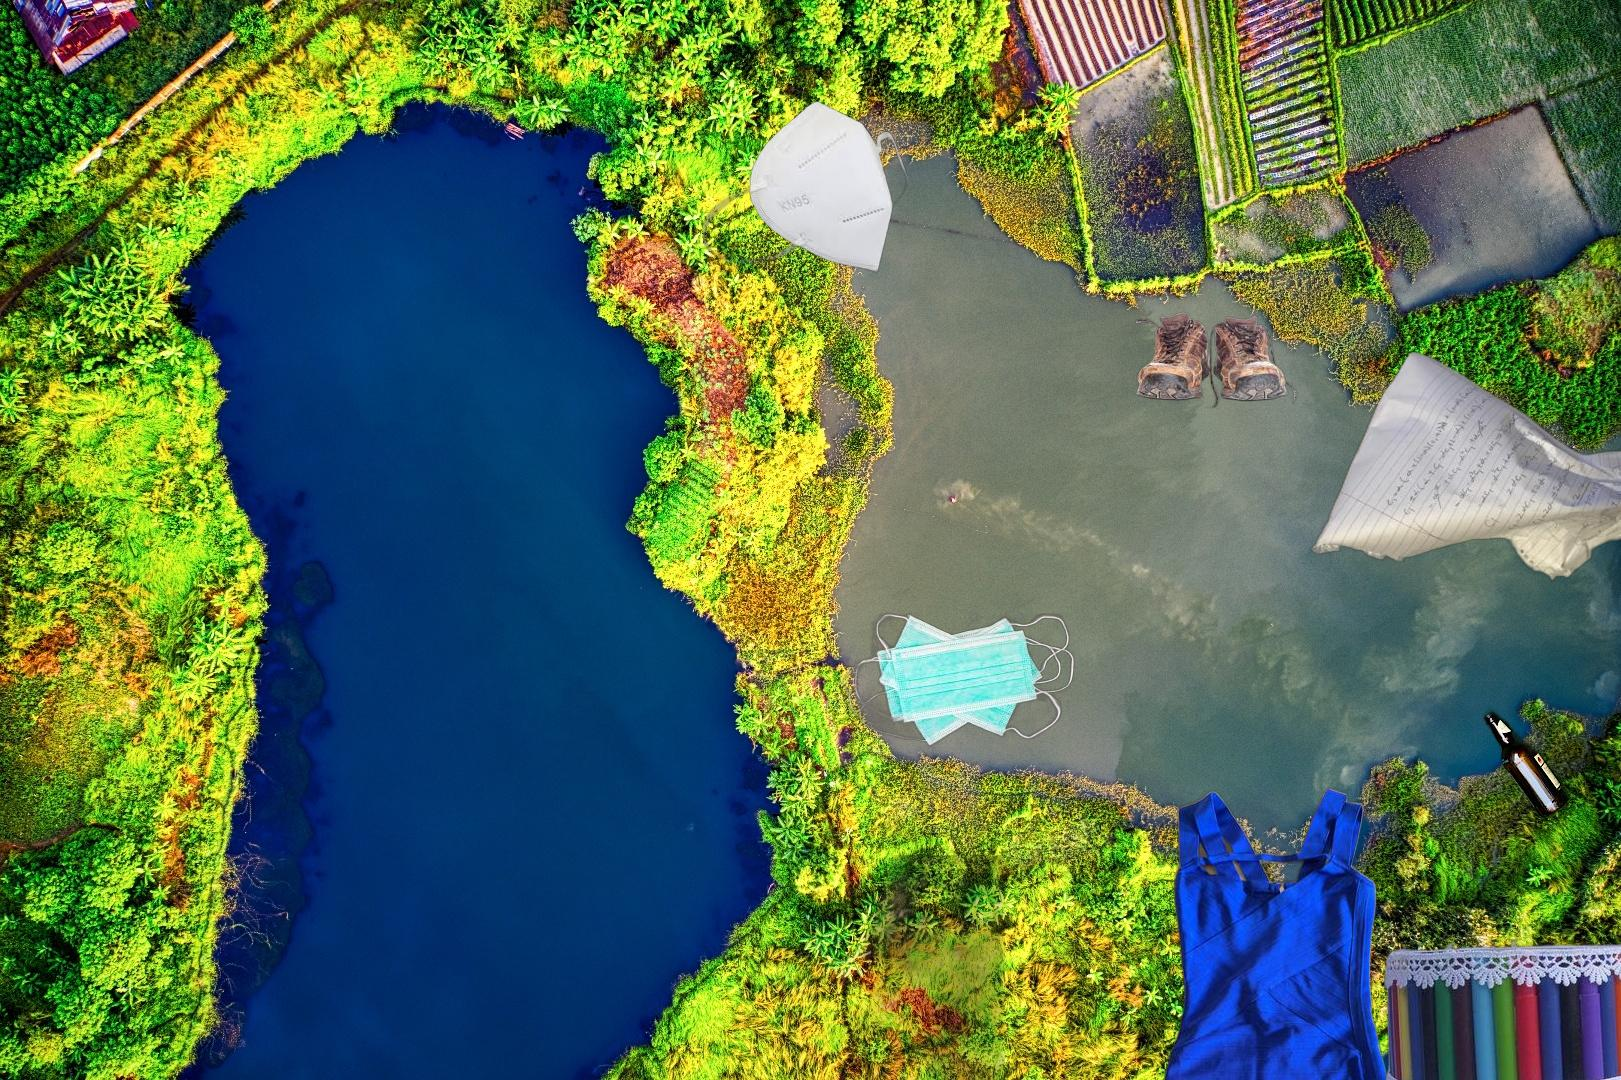clothes: (1155, 783, 1449, 1080)
glass: (1331, 704, 1621, 1080)
paper: (1306, 348, 1621, 585)
penholder: (1380, 939, 1621, 1080)
shoes: (1133, 310, 1300, 418)
trash: (701, 98, 908, 274), (836, 611, 1079, 750)
trashbox-cardboard: (493, 855, 1005, 1080)
